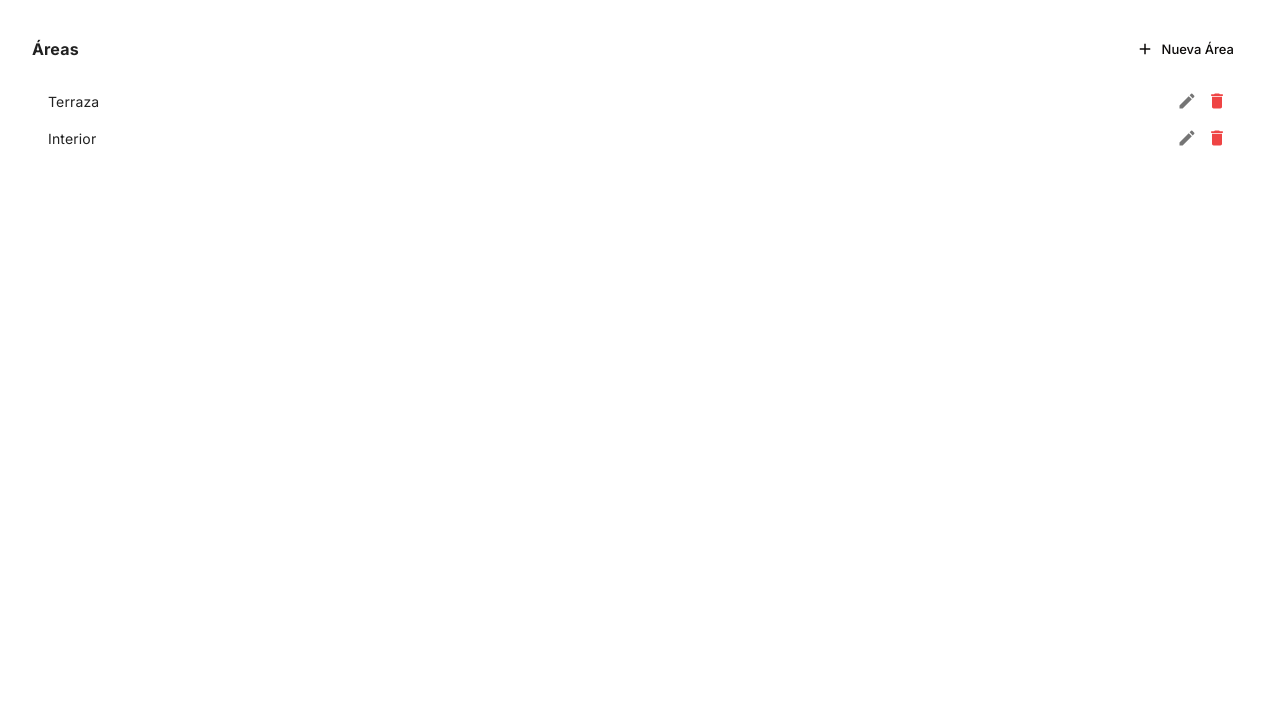
Test case: AreaList › shows delete confirmation when delete is clicked
Check: the text "Terraza" is shown, box x1=48 y1=93 x2=99 y2=110
Click the button named "eliminar área Terraza". click: {"x": 1217, "y": 101}
box: x1=1202 y1=86 x2=1232 y2=116
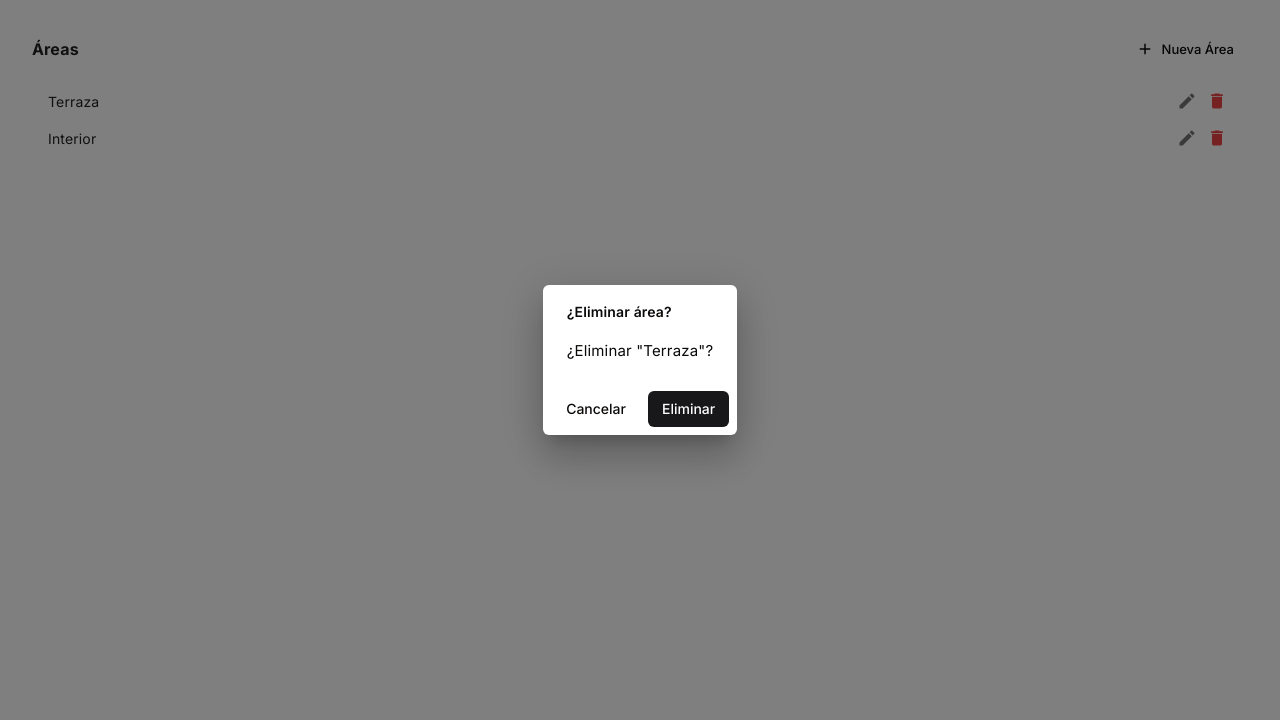
Check: the dialog is shown, box x1=543 y1=284 x2=737 y2=435
Check: the heading "¿Eliminar área?" is shown, box x1=567 y1=302 x2=672 y2=320
